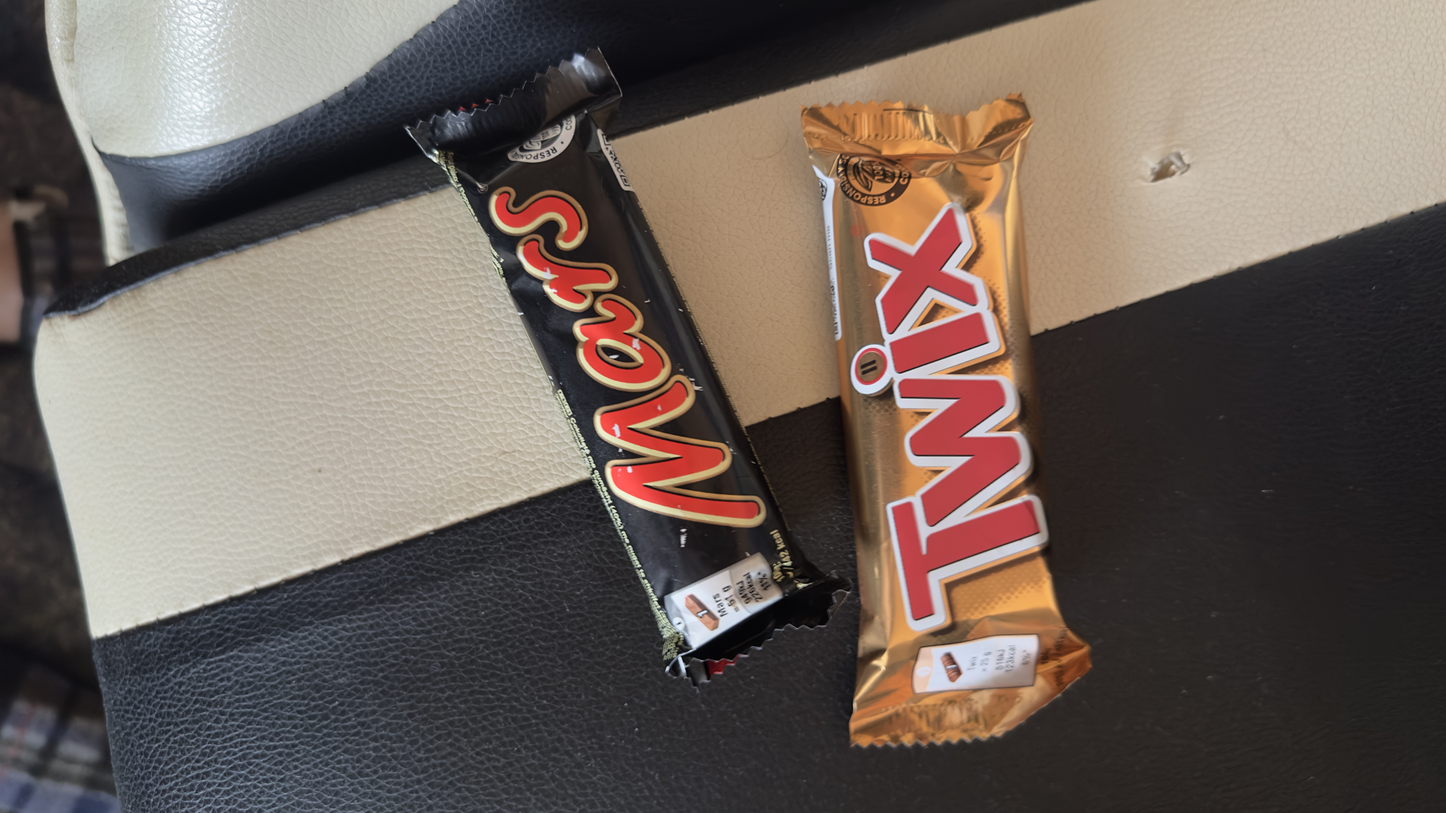MARS: (397, 124, 621, 769)
TWIX: (790, 103, 1046, 762)
